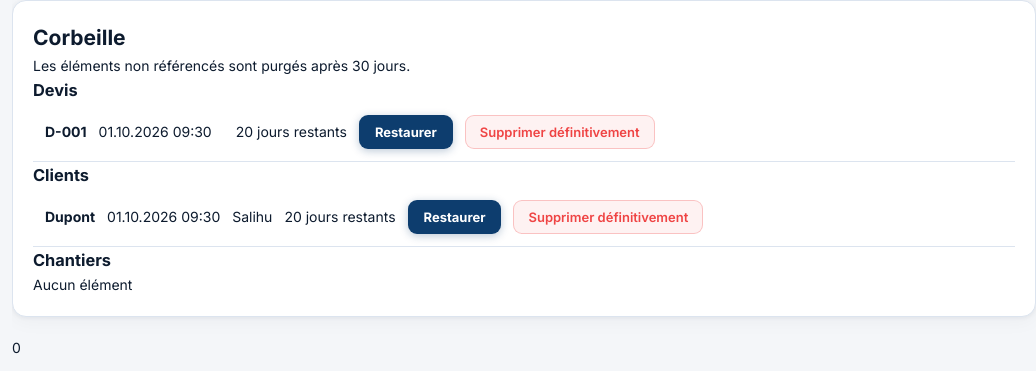
Test: Corbeille réelle › restaure devis et client ensemble en une sauvegarde
Click the button "Restaurer" in the row of "D-001" at (406, 132), box 359,115 -> 453,149
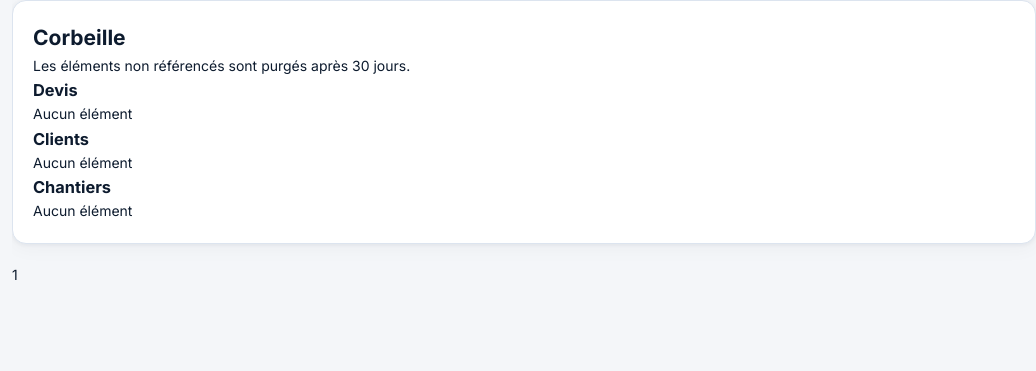
Check: the text with test id "actifs" reads "1", box 12,266 -> 18,283
